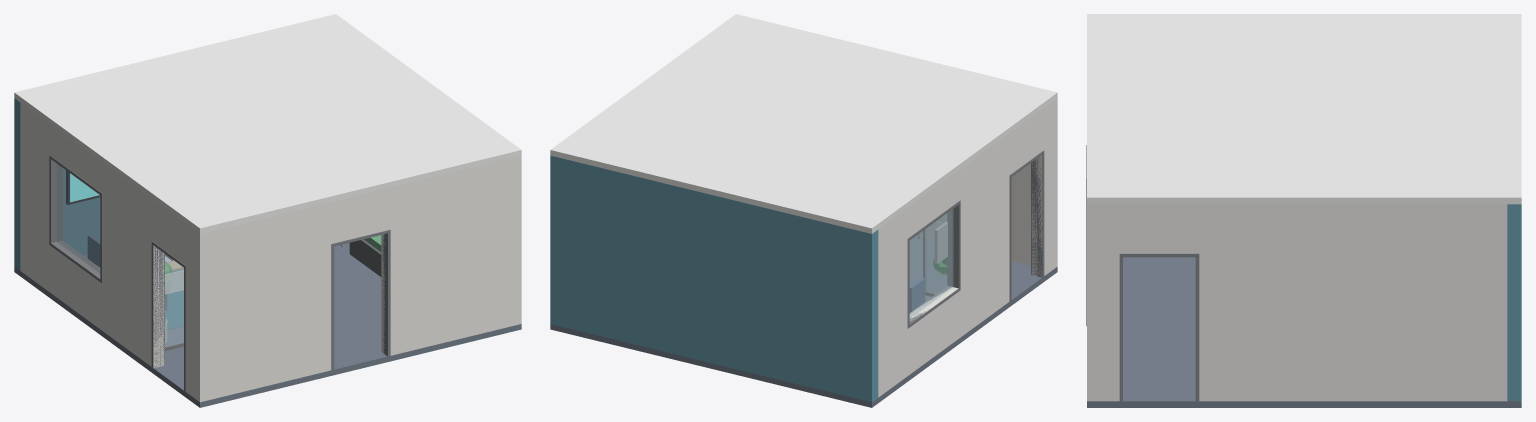
3 views of the same model, side by side, from view 1: azimuth 30°, elevation 25°; view 2: azimuth 150°, elevation 25°; view 3: azimuth 270°, elevation 25° (orthographic). The views are drawn at different scales.
Visible parts, largest first — view 1: Ceiling, Wall_S, Wall_W, Floor, Frames_W, Wall_N, Partition_S, Frames_S, Sofa, Rug, FocusScreen; view 2: Ceiling, Wall_N, Wall_W, Frames_W, Floor, Wall_S, Partition_S, AcousticPanels_W, Chair_01; view 3: Ceiling, Wall_E, Floor, Wall_N, Wall_S, Frames_E.
Boxes of the visible parts, x1,y1,x2,y2 form: Ceiling: [14, 14, 521, 233]; Wall_S: [193, 155, 521, 402]; Wall_W: [20, 103, 193, 397]; Floor: [14, 243, 521, 407]; Frames_W: [49, 155, 185, 392]; Wall_N: [14, 98, 100, 270]; Partition_S: [165, 254, 183, 350]; Frames_S: [331, 229, 390, 370]; Sofa: [349, 235, 381, 276]; Rug: [165, 269, 183, 329]; FocusScreen: [66, 170, 100, 204]; Ceiling: [550, 14, 1057, 233]; Wall_N: [550, 155, 878, 402]; Wall_W: [878, 103, 1051, 397]; Frames_W: [907, 150, 1044, 328]; Floor: [550, 236, 1057, 407]; Wall_S: [920, 98, 1057, 270]; Partition_S: [910, 214, 946, 296]; AcousticPanels_W: [934, 221, 947, 263]; Chair_01: [909, 278, 925, 312]; Ceiling: [1087, 14, 1521, 204]; Wall_E: [1101, 204, 1507, 401]; Floor: [1087, 257, 1521, 407]; Wall_N: [1507, 204, 1521, 401]; Wall_S: [1087, 204, 1101, 401]; Frames_E: [1119, 253, 1199, 401].
Size of the model in its own units: 6.02 by 3.2 by 6.01.
